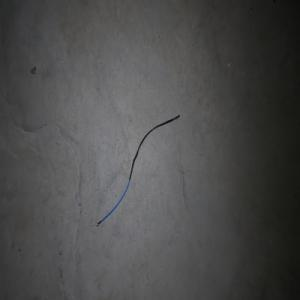Wire: (96, 114, 180, 226)
